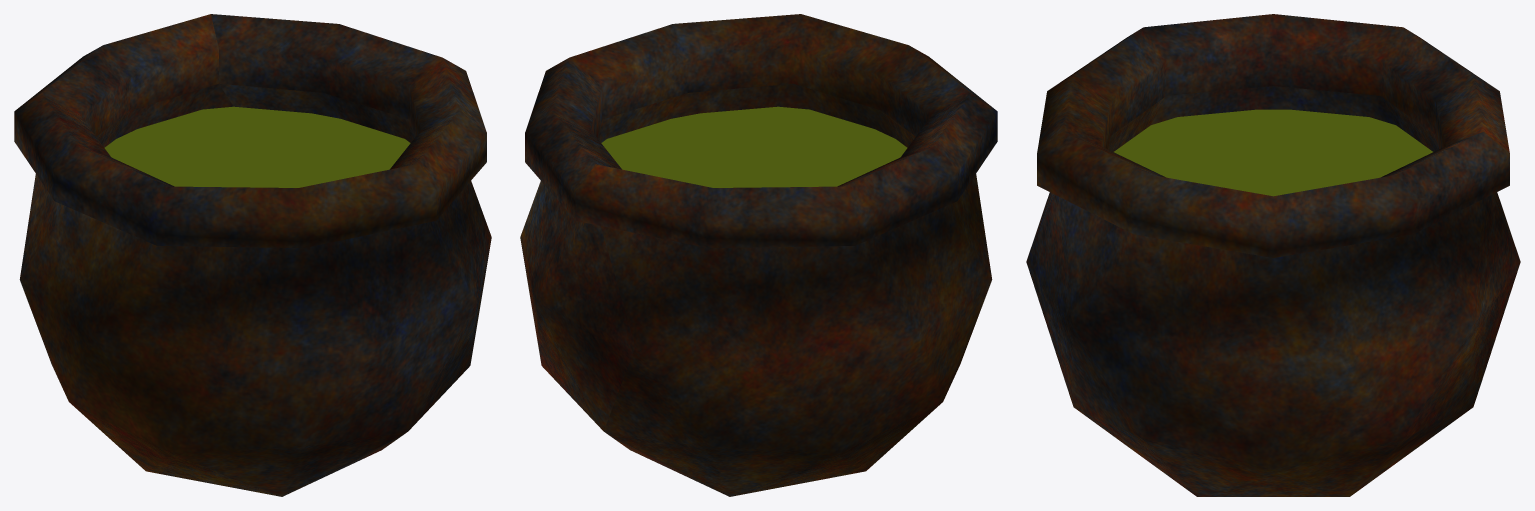
Rendered from Cauldron.fbx.
3 views of the same model, side by side, from view 1: azimuth 30°, elevation 25°; view 2: azimuth 150°, elevation 25°; view 3: azimuth 270°, elevation 25° (orthographic). The views are drawn at different scales.
Parts seen in each view (by area): view 1: Cauldron, CauldronContents; view 2: Cauldron, CauldronContents; view 3: Cauldron, CauldronContents.
Part boxes in pixels (bbox=[...]): Cauldron: bbox=[14, 14, 491, 496]; CauldronContents: bbox=[104, 106, 410, 187]; Cauldron: bbox=[520, 14, 997, 496]; CauldronContents: bbox=[601, 106, 907, 187]; Cauldron: bbox=[1026, 14, 1520, 496]; CauldronContents: bbox=[1114, 109, 1432, 196].
Size of the model in its own units: 1.97 by 1.71 by 2.
2 materials, 1 textured.
